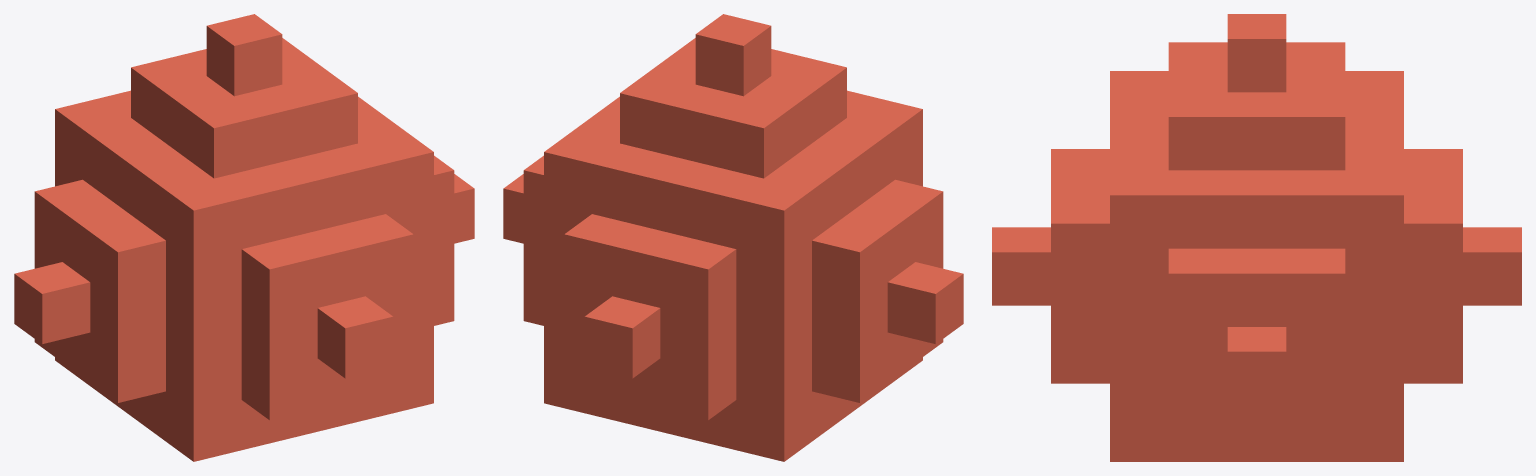
The model's file is MazeEgg1.gltf.
3 renders of one model, left to right at view 1: azimuth 30°, elevation 25°; view 2: azimuth 150°, elevation 25°; view 3: azimuth 270°, elevation 25°, orthographic. The views are drawn at different scales.
Parts seen in each view (by area): view 1: MazeEgg1-Mesh; view 2: MazeEgg1-Mesh; view 3: MazeEgg1-Mesh.
Part boxes in pixels (x1,y1,x2,y2): MazeEgg1-Mesh: (14,14,474,461); MazeEgg1-Mesh: (503,14,963,461); MazeEgg1-Mesh: (992,14,1521,461).
Bounding box in the file's own units: 9 × 7 × 9.
Materials: 1 (1 with a texture image).
